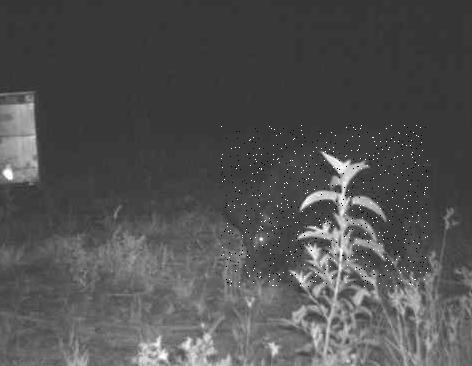Hog: (221, 125, 428, 287)
